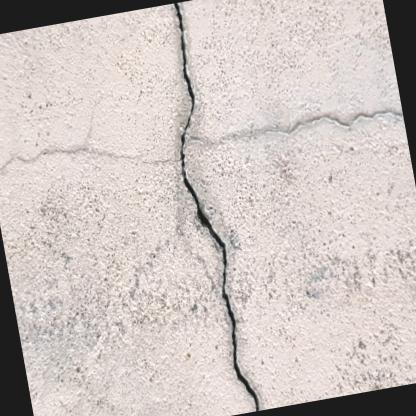crack: (172, 2, 260, 411)
